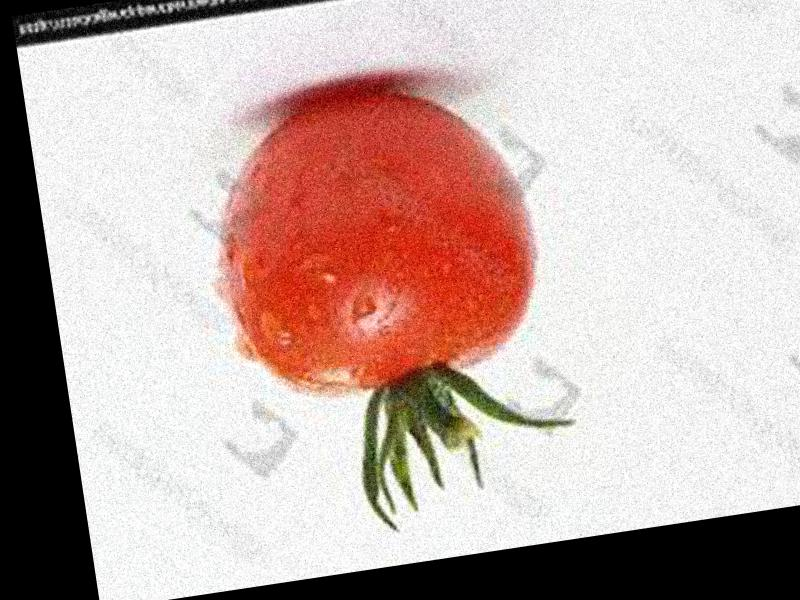Tomato: (205, 67, 553, 406)
